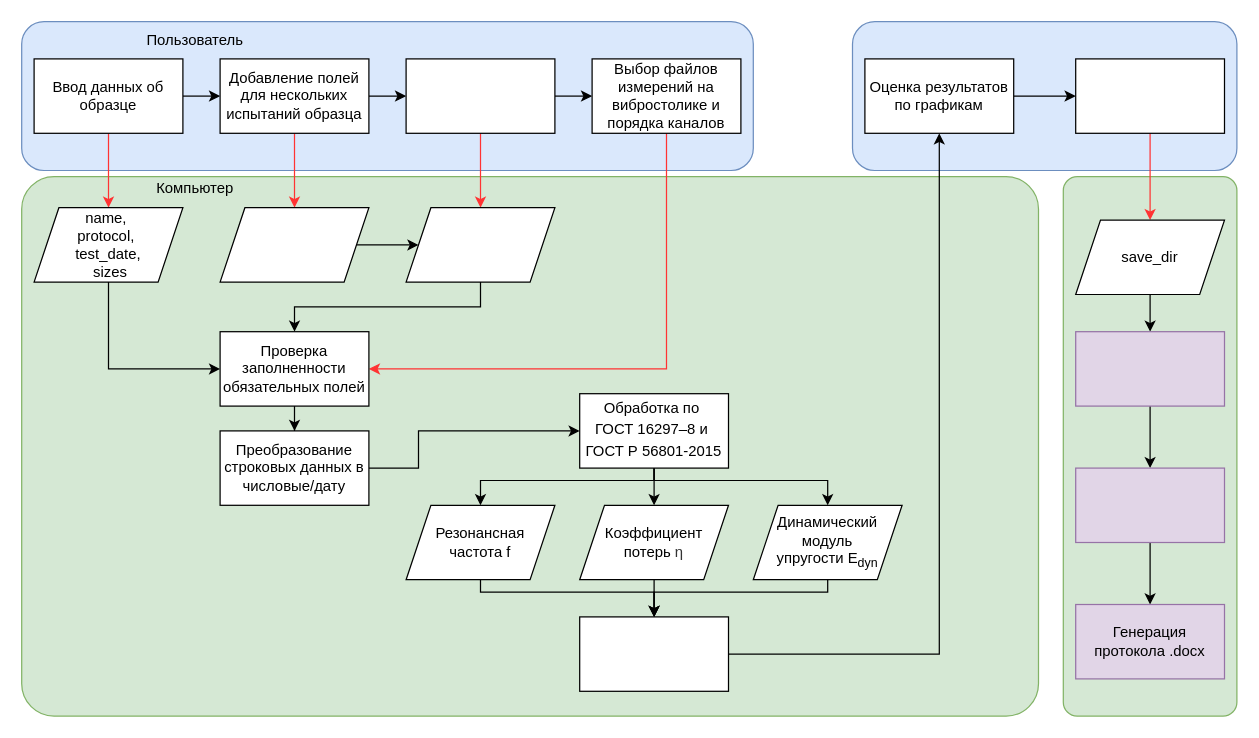
Some shapes in this 1259 by 738 pixel diagram are drawn without their labels. The box of each missing label's shape, as (x1, y1, x2, y2) in pixels:
mass_list, height_list: (405, 206, 555, 282)
num_entries: (219, 206, 369, 282)
Ввод массы пригруза и высоты под нагрузкой: (405, 58, 555, 133)
Выбор пути сохранения результатов: (1074, 58, 1224, 133)
Построение графиков: (578, 616, 728, 691)
Сохранение графиков: (1074, 330, 1224, 406)
Сохранение таблицы Excel: (1074, 467, 1224, 542)
